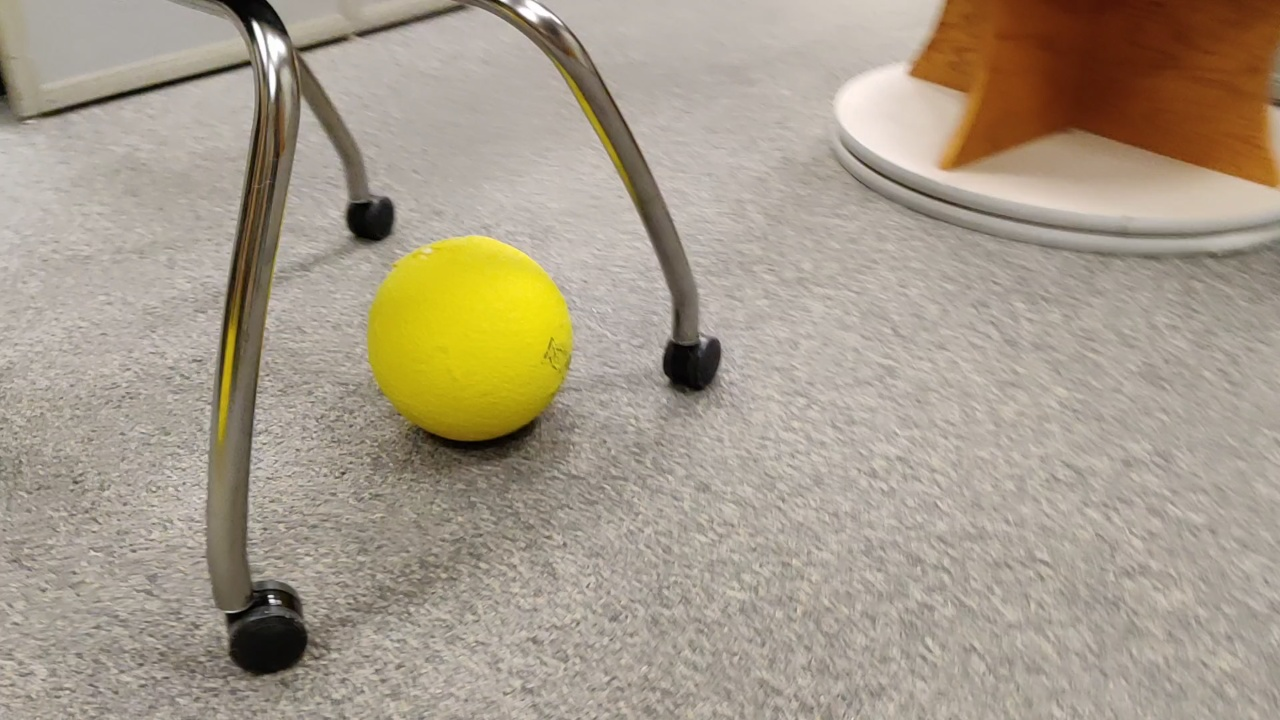Ball: (358, 237, 571, 445)
